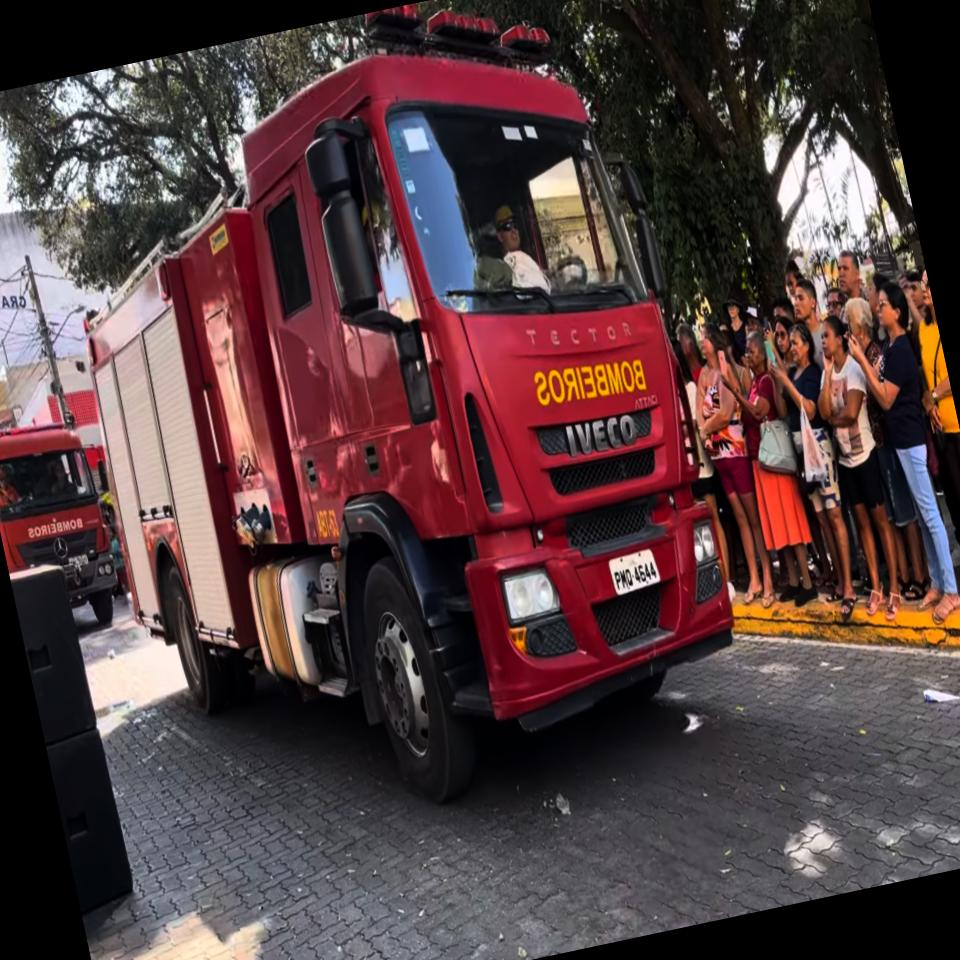viatura: (21, 0, 769, 864)
